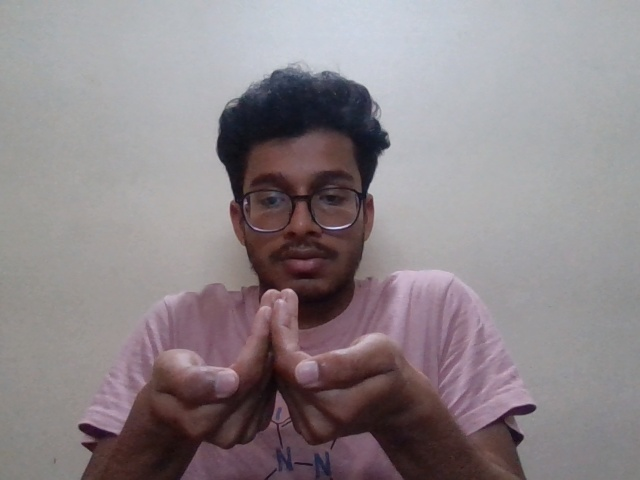tomorrow: (156, 281, 397, 445)
